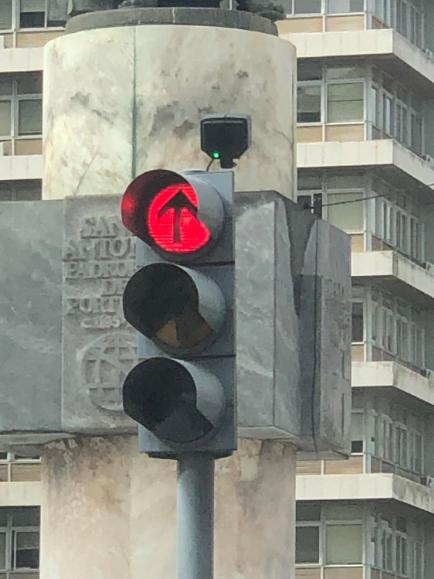red_light: (121, 169, 237, 452)
